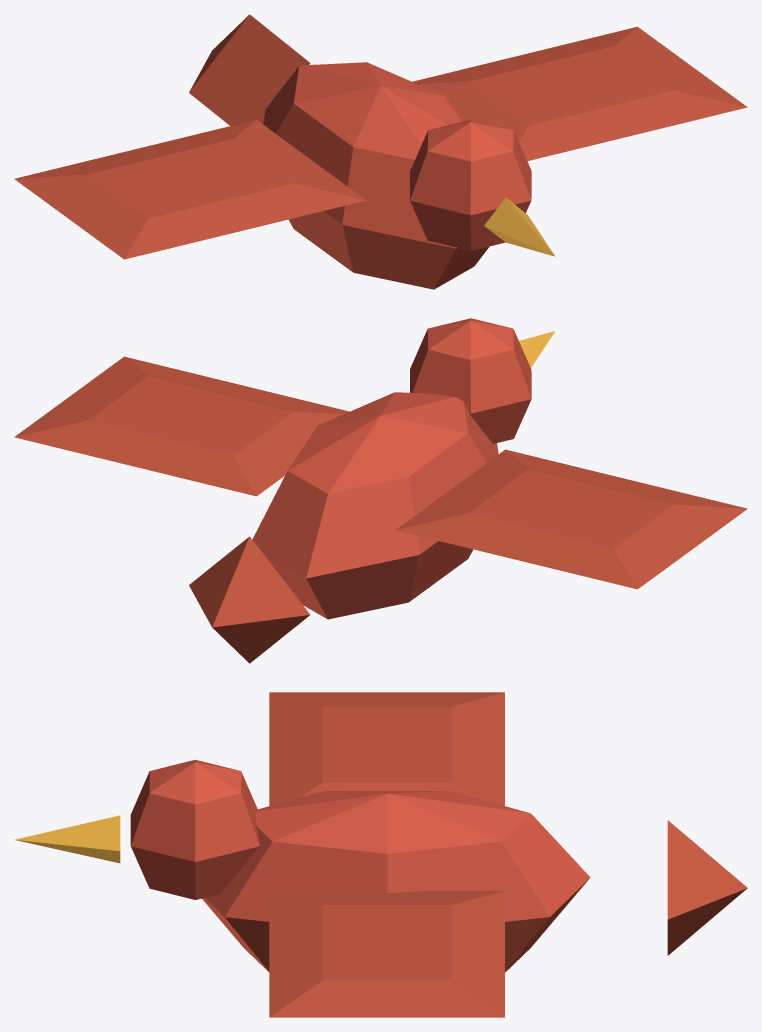
Rendered from songbird-red.glb.
The picture shows the model from 3 angles, top to bottom: view 1: azimuth 30°, elevation 25°; view 2: azimuth 150°, elevation 25°; view 3: azimuth 270°, elevation 25°; orthographic projection. The views are drawn at different scales.
Visible parts, largest first — view 1: songbird-red, wing_R, wing_L; view 2: songbird-red, wing_R, wing_L; view 3: songbird-red, wing_L, wing_R.
Part boxes in pixels (x1,y1,x2,y2): songbird-red: (189, 14, 555, 289); wing_R: (14, 119, 366, 259); wing_L: (412, 26, 747, 160); songbird-red: (189, 318, 555, 663); wing_R: (395, 449, 747, 589); wing_L: (14, 356, 349, 496); songbird-red: (14, 759, 747, 972); wing_L: (269, 891, 504, 1017); wing_R: (269, 692, 504, 805).
Size of the model in its own units: 0.7205 by 0.2275 by 0.6875.
